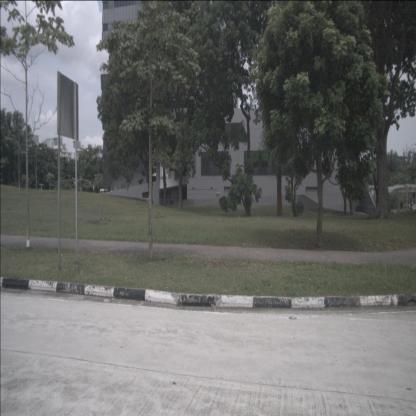human-pedestrian-adult: (400, 196, 403, 210), (410, 196, 413, 209)
vehicle-car: (100, 189, 109, 196)
